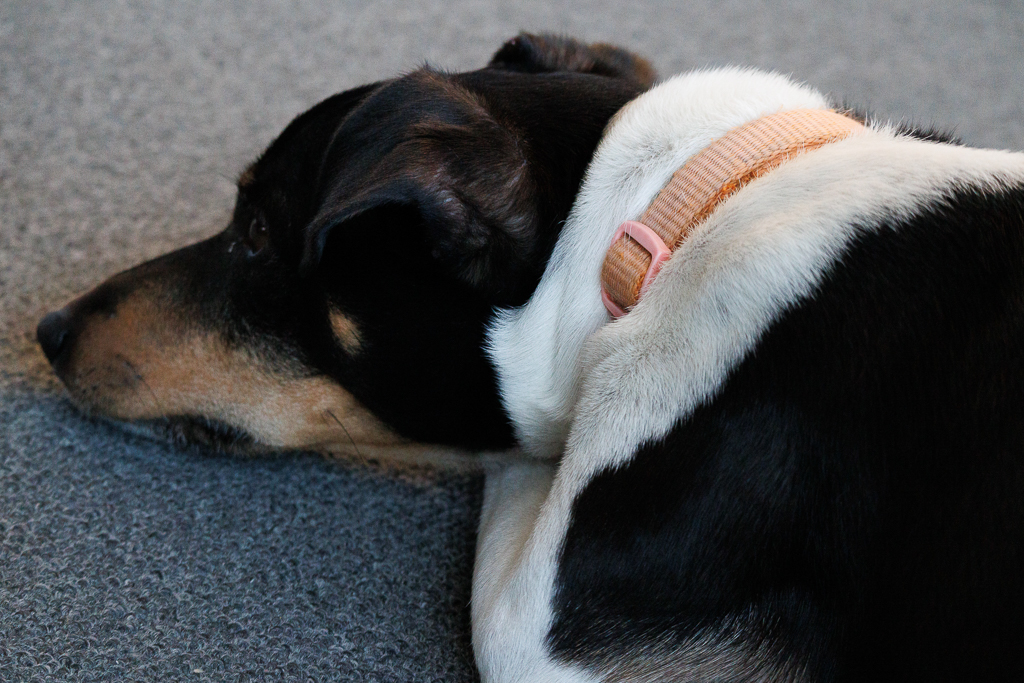Dog: (24, 17, 1023, 682)
